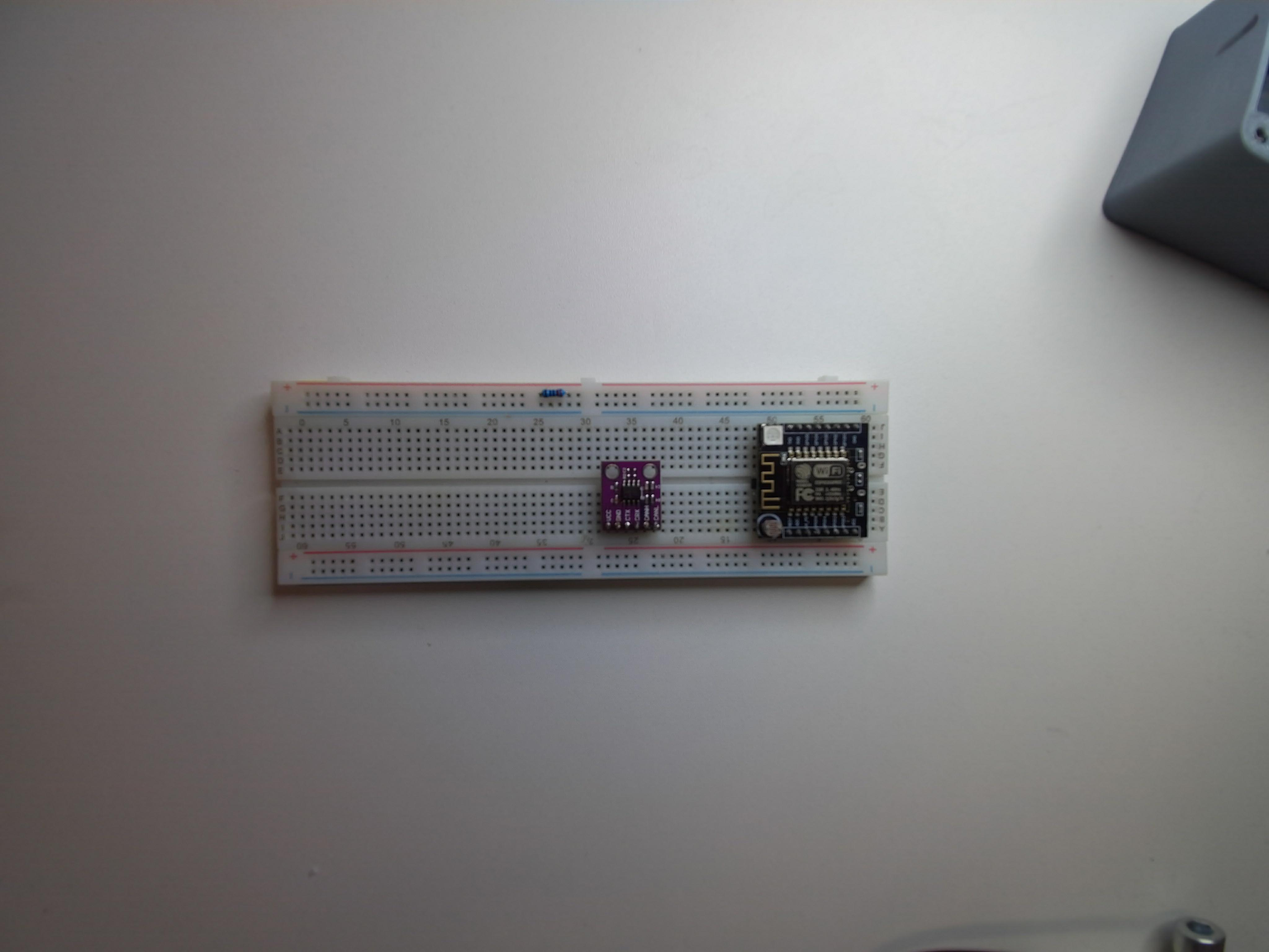base: (258, 378, 893, 593)
esp: (753, 417, 871, 542)
purple-board: (597, 458, 663, 534)
resistor-small: (536, 386, 567, 401)
